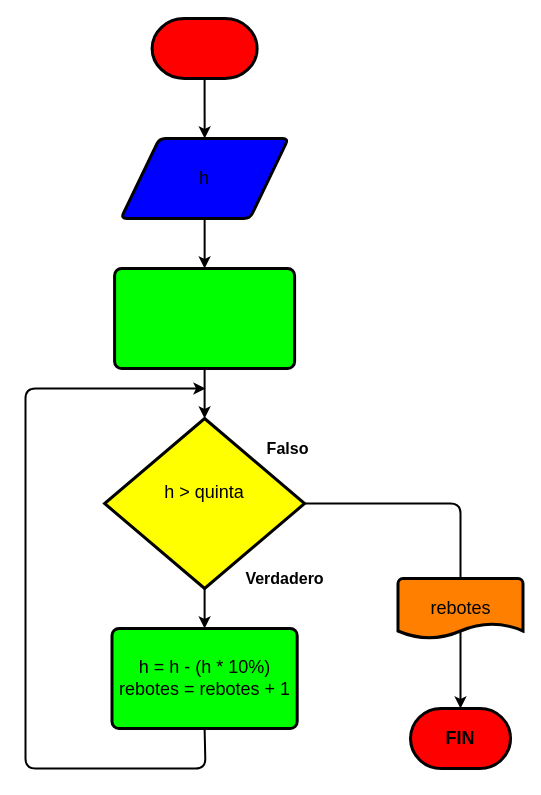
The diagram is 541 pixels wide and 795 high, and some of its shapes have lost their labels. Each missing label, with the centre of its shape:
INICIO: the point at 204,48
rebotes = 0 quinta = (h / 5): the point at 204,318
